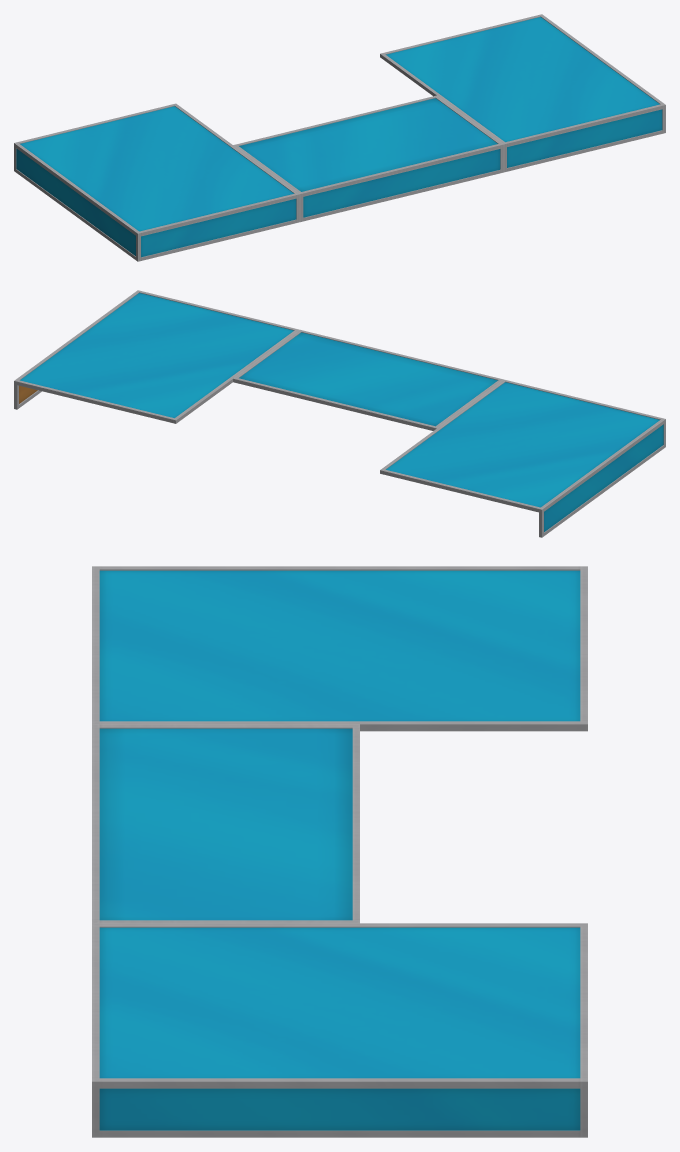
Rendered from jsf_2P_s02_c02_t04_DX.fbx.
The picture shows the model from 3 angles, top to bottom: view 1: azimuth 30°, elevation 25°; view 2: azimuth 150°, elevation 25°; view 3: azimuth 270°, elevation 25°; orthographic projection. The views are drawn at different scales.
Parts seen in each view (by area): view 1: jsf_2P_s02_c02_t04_DX; view 2: jsf_2P_s02_c02_t04_DX; view 3: jsf_2P_s02_c02_t04_DX.
Boxes of the visible parts, x1,y1,x2,y2 form: jsf_2P_s02_c02_t04_DX: (14,14,665,261); jsf_2P_s02_c02_t04_DX: (14,290,665,537); jsf_2P_s02_c02_t04_DX: (92,566,587,1137).
Bounding box in the file's own units: 246 × 12.51 × 100.
